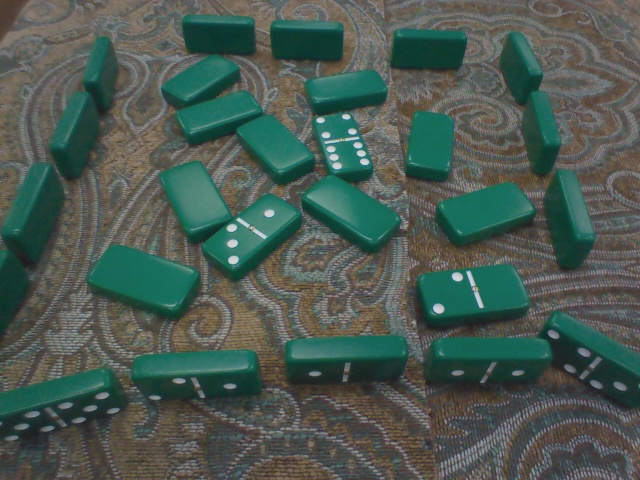A: (86, 235, 198, 315), (301, 166, 404, 250), (427, 177, 538, 244), (231, 106, 322, 181), (151, 160, 233, 240), (169, 91, 264, 149), (396, 102, 458, 185), (154, 51, 250, 103), (303, 66, 391, 111)
B: (194, 188, 299, 270), (415, 258, 534, 326), (307, 108, 375, 177)
C: (4, 162, 70, 256), (52, 90, 99, 183), (75, 35, 123, 107), (1, 258, 34, 339)
D: (540, 162, 606, 277), (514, 94, 566, 178), (494, 28, 548, 102)
E: (1, 366, 127, 451), (536, 307, 640, 403), (423, 335, 556, 388), (281, 334, 413, 387), (130, 354, 264, 402)
F: (385, 28, 469, 75), (266, 19, 345, 61), (177, 16, 260, 54)
